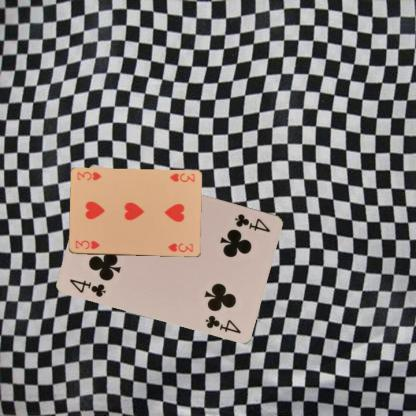3h: (73, 238, 100, 251), (167, 171, 195, 183)
4c: (232, 211, 272, 233), (67, 276, 107, 298)
